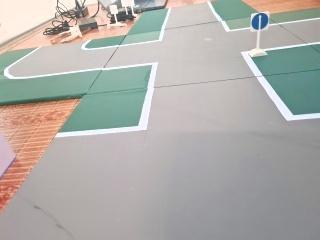straight: (249, 8, 273, 34)
